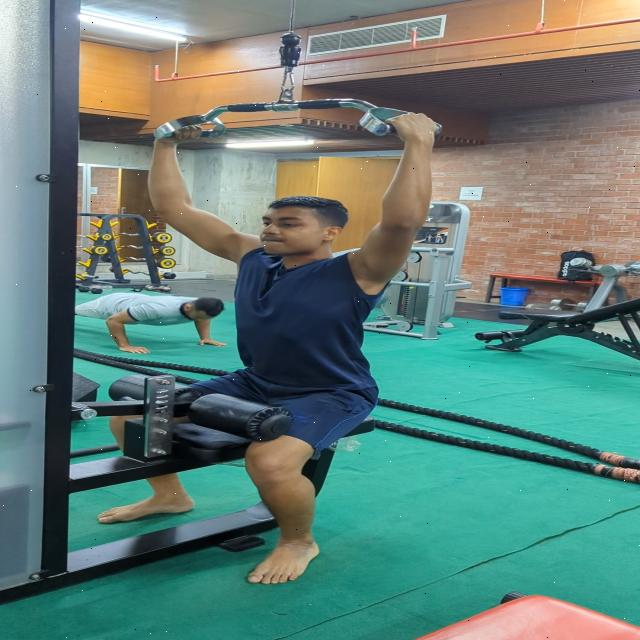Normal_LatPulldown: (107, 104, 447, 594)
